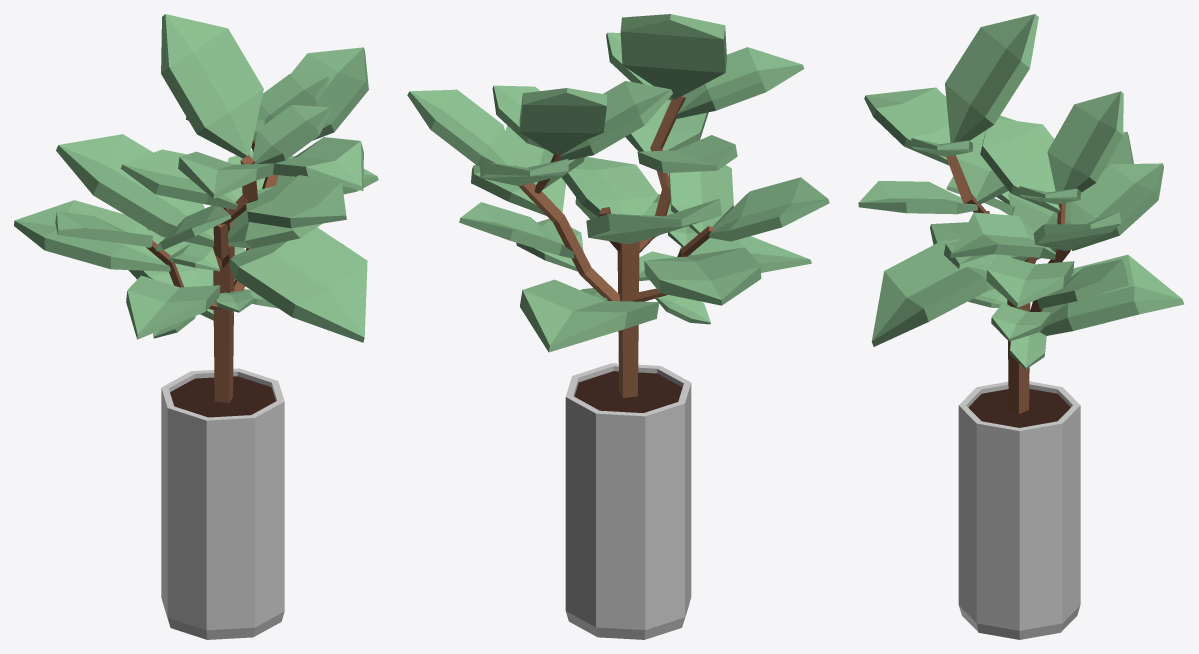
File: woodpot.fbx
The picture shows the model from 3 angles, left to right: view 1: azimuth 30°, elevation 25°; view 2: azimuth 150°, elevation 25°; view 3: azimuth 270°, elevation 25°; orthographic projection. The views are drawn at different scales.
Parts seen in each view (by area): view 1: woodpot; view 2: woodpot; view 3: woodpot.
Part boxes in pixels (<box>): woodpot: <box>14,14,378,639</box>; woodpot: <box>407,14,829,639</box>; woodpot: <box>858,14,1184,639</box>.
Bounding box in the file's own units: 0.9638 × 1.55 × 0.7918.
Materials: 1 (1 with a texture image).
